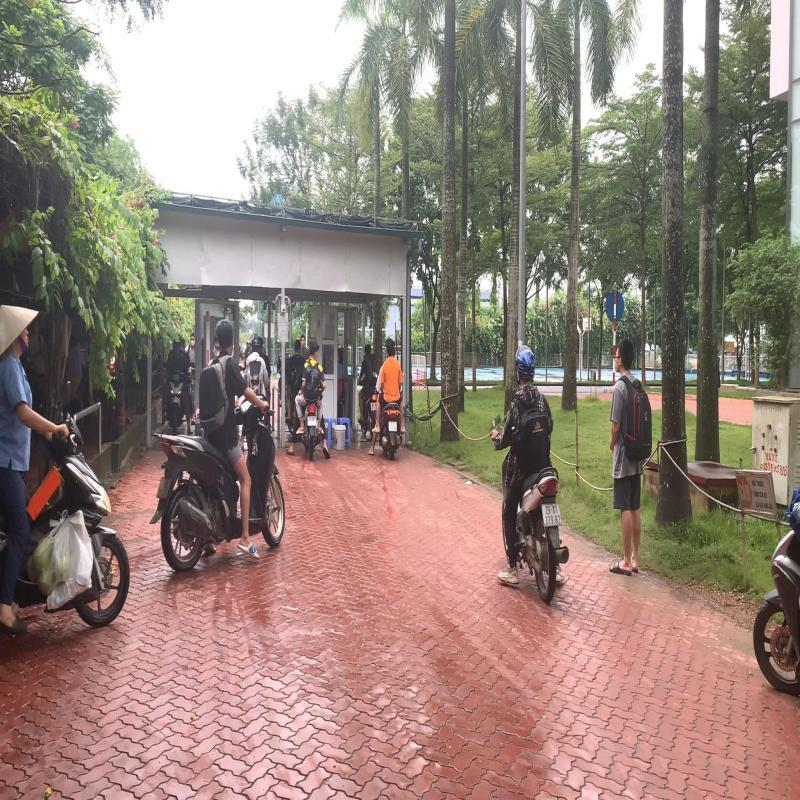nohelmet: (215, 315, 234, 356), (308, 340, 320, 360), (385, 336, 395, 357)
